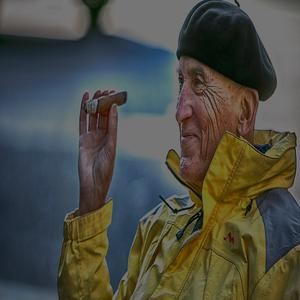cigarette: (81, 89, 130, 115)
